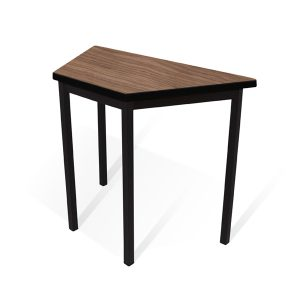m01: (52, 45, 258, 266)
